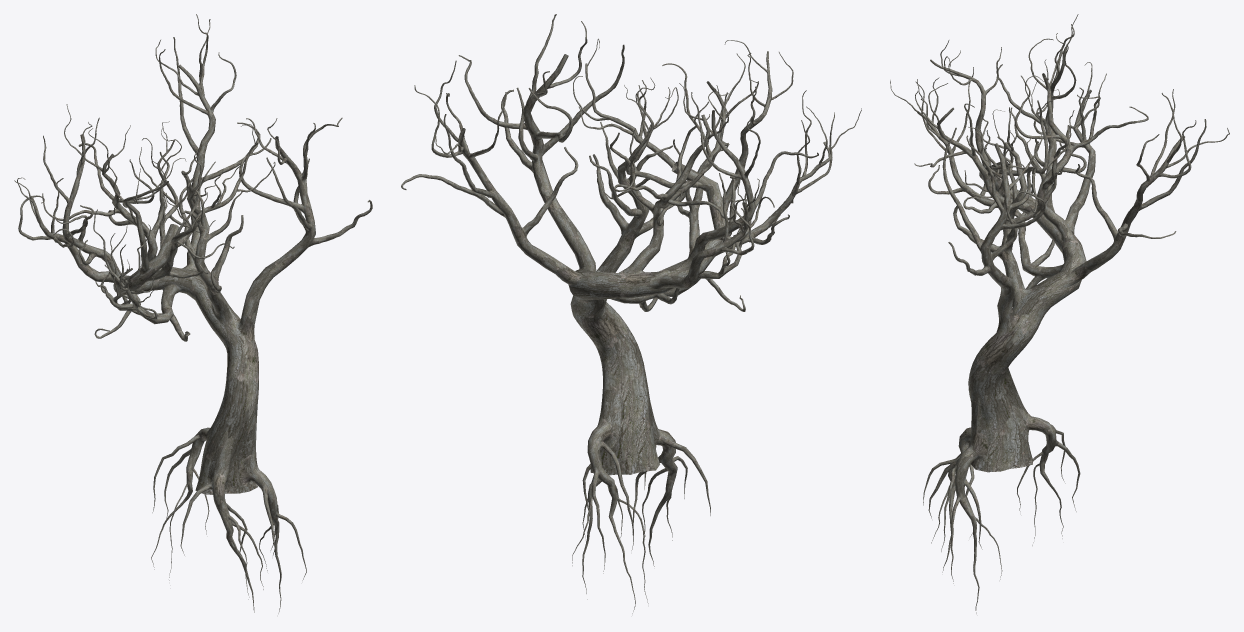
File: tree.glb
The picture shows the model from 3 angles, left to right: view 1: azimuth 30°, elevation 25°; view 2: azimuth 150°, elevation 25°; view 3: azimuth 270°, elevation 25°; orthographic projection. The views are drawn at different scales.
Parts seen in each view (by area): view 1: DT_Demo.002_2; view 2: DT_Demo.002_2; view 3: DT_Demo.002_2.
Part boxes in pixels (bbox=[...]): DT_Demo.002_2: bbox=[14, 14, 372, 613]; DT_Demo.002_2: bbox=[401, 14, 861, 613]; DT_Demo.002_2: bbox=[890, 14, 1229, 613].
Bounding box in the file's own units: 3.77 × 6.4 × 3.67.
Materials: 1 (1 with a texture image).
